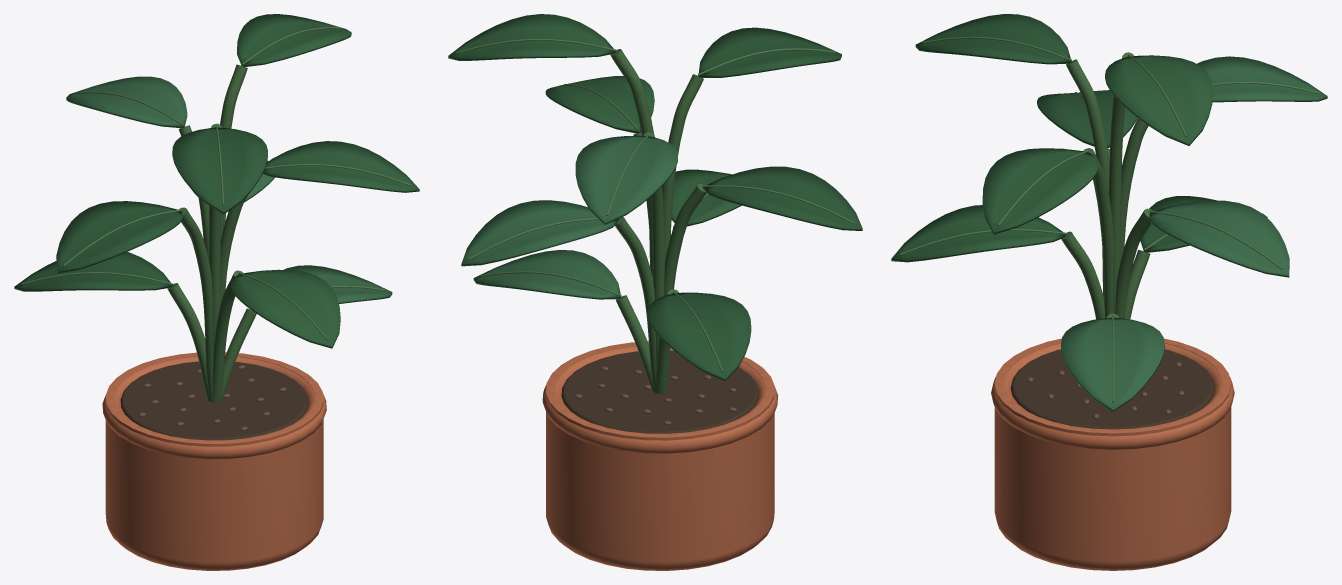
File: plantB.glb
3 views of the same model, side by side, from view 1: azimuth 30°, elevation 25°; view 2: azimuth 150°, elevation 25°; view 3: azimuth 270°, elevation 25° (orthographic). The views are drawn at different scales.
Parts seen in each view (by area): view 1: Ceramic planter, Soil, Leaf blade 8, Leaf blade 3, Leaf blade 5, Leaf blade 6, Pot rim, Leaf blade 7, Leaf blade 9, Leaf blade 2, Stem.004, Leaf blade 1 (+6 smaller); view 2: Ceramic planter, Soil, Leaf blade 7, Leaf blade 2, Leaf blade 5, Leaf blade 4, Leaf blade 9, Leaf blade 1, Pot rim, Leaf blade 8, Leaf blade 6, Leaf blade 3 (+7 smaller); view 3: Ceramic planter, Soil, Leaf blade 1, Leaf blade 9, Leaf blade 6, Leaf blade 4, Leaf blade 8, Pot rim, Leaf blade 3, Leaf blade 7, Leaf blade 5, Stem.008 (+7 smaller).
Boxes of the visible parts, left/top/right/bottom form: Ceramic planter: left=105, top=352, right=323, bottom=570; Soil: left=120, top=361, right=308, bottom=440; Leaf blade 8: left=172, top=127, right=267, bottom=214; Leaf blade 3: left=231, top=269, right=340, bottom=348; Leaf blade 5: left=56, top=201, right=182, bottom=273; Leaf blade 6: left=262, top=141, right=419, bottom=192; Pot rim: left=102, top=356, right=326, bottom=459; Leaf blade 7: left=66, top=76, right=187, bottom=128; Leaf blade 9: left=237, top=14, right=351, bottom=66; Leaf blade 2: left=14, top=252, right=172, bottom=291; Stem.004: left=179, top=207, right=212, bottom=401; Leaf blade 1: left=252, top=265, right=392, bottom=311; Ceramic planter: left=546, top=341, right=774, bottom=570; Soil: left=561, top=350, right=758, bottom=433; Leaf blade 7: left=575, top=135, right=677, bottom=224; Leaf blade 2: left=647, top=292, right=751, bottom=380; Leaf blade 5: left=702, top=166, right=862, bottom=230; Leaf blade 4: left=461, top=200, right=618, bottom=266; Leaf blade 9: left=448, top=14, right=615, bottom=60; Leaf blade 1: left=473, top=250, right=621, bottom=299; Pot rim: left=542, top=346, right=778, bottom=453; Leaf blade 8: left=698, top=27, right=841, bottom=77; Leaf blade 6: left=545, top=76, right=654, bottom=133; Leaf blade 3: left=671, top=169, right=741, bottom=226; Ceramic planter: left=994, top=338, right=1231, bottom=570; Soil: left=1010, top=349, right=1214, bottom=429; Leaf blade 1: left=1061, top=317, right=1164, bottom=411; Leaf blade 9: left=1105, top=55, right=1212, bottom=145; Leaf blade 6: left=982, top=148, right=1098, bottom=234; Leaf blade 4: left=1149, top=200, right=1289, bottom=277; Leaf blade 8: left=915, top=14, right=1071, bottom=64; Pot rim: left=991, top=343, right=1234, bottom=449; Leaf blade 3: left=891, top=205, right=1066, bottom=262; Leaf blade 7: left=1197, top=56, right=1327, bottom=102; Leaf blade 5: left=1037, top=90, right=1137, bottom=148; Stem.008: left=1108, top=52, right=1133, bottom=313.
Size of the model in its own units: 1.23 by 1.54 by 1.22.
